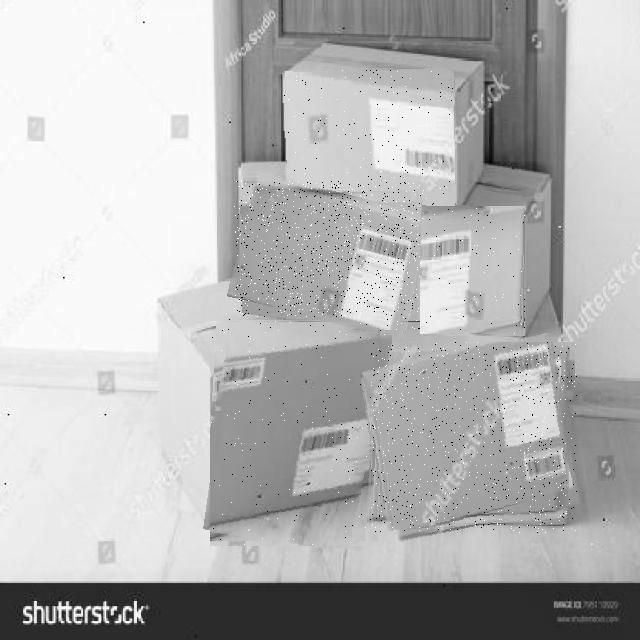BoxFace: (210, 317, 385, 546), (371, 342, 577, 533), (234, 181, 426, 330), (283, 70, 455, 218), (420, 206, 525, 336)
